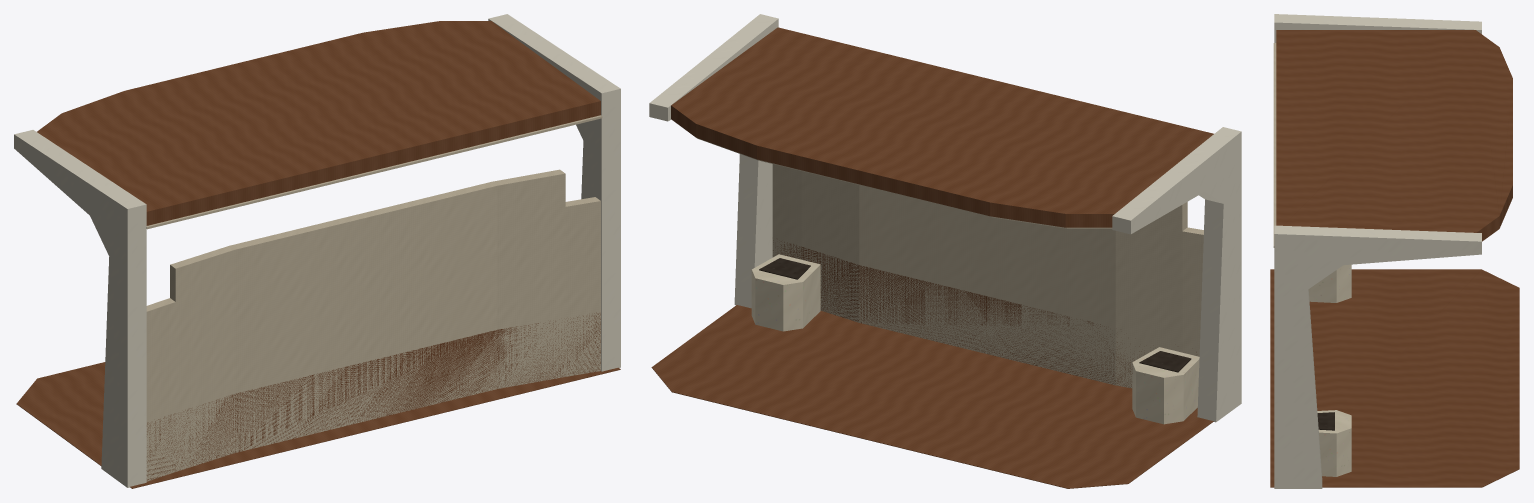
Rendered from AST-RES-003.glb.
3 renders of one model, left to right at view 1: azimuth 30°, elevation 25°; view 2: azimuth 150°, elevation 25°; view 3: azimuth 270°, elevation 25°, orthographic. The views are drawn at different scales.
Visible parts, largest first — view 1: TALK_SweptCanopy, TALK_FacetedBack_2, TALK_EndBearing_0, TALK_FacetedBack_3, TALK_BackDado_2, TALK_FacetedBack_1, TALK_VisualFloor, TALK_EndBearing_1, TALK_FacetedBack_4, TALK_FacetedBack_0, TALK_SoftSoffit, TALK_BackDado_1 (+2 smaller); view 2: TALK_SweptCanopy, TALK_VisualFloor, TALK_FacetedBack_2, TALK_EndBearing_0, TALK_FacetedBack_1, TALK_BackDado_2, TALK_EndBearing_1, TALK_FacetedBack_3, TALK_PlantedEnd_1, TALK_PlantedEnd_0, TALK_FacetedBack_4, TALK_FacetedBack_0 (+3 smaller); view 3: TALK_SweptCanopy, TALK_VisualFloor, TALK_EndBearing_1, TALK_EndBearing_0, TALK_PlantedEnd_1, TALK_PlantedEnd_0, TALK_SoftSoffit, TALK_Soil_1.
Boxes of the visible parts, x1=… form: TALK_SweptCanopy: x1=37, y1=21, x2=600, y2=225; TALK_FacetedBack_2: x1=229, y1=181, x2=497, y2=452; TALK_EndBearing_0: x1=14, y1=130, x2=146, y2=487; TALK_FacetedBack_3: x1=492, y1=169, x2=565, y2=388; TALK_BackDado_2: x1=234, y1=330, x2=497, y2=452; TALK_FacetedBack_1: x1=170, y1=246, x2=234, y2=471; TALK_VisualFloor: x1=16, y1=362, x2=620, y2=488; TALK_EndBearing_1: x1=488, y1=14, x2=620, y2=371; TALK_FacetedBack_4: x1=565, y1=197, x2=600, y2=376; TALK_FacetedBack_0: x1=146, y1=298, x2=175, y2=481; TALK_SoftSoffit: x1=146, y1=115, x2=602, y2=229; TALK_BackDado_1: x1=175, y1=394, x2=234, y2=471; TALK_SweptCanopy: x1=671, y1=27, x2=1213, y2=227; TALK_VisualFloor: x1=651, y1=305, x2=1213, y2=488; TALK_FacetedBack_2: x1=859, y1=185, x2=1115, y2=385; TALK_EndBearing_0: x1=1112, y1=127, x2=1241, y2=422; TALK_FacetedBack_1: x1=1115, y1=202, x2=1187, y2=388; TALK_BackDado_2: x1=859, y1=265, x2=1115, y2=384; TALK_EndBearing_1: x1=649, y1=14, x2=778, y2=308; TALK_FacetedBack_3: x1=801, y1=171, x2=859, y2=322; TALK_PlantedEnd_1: x1=751, y1=254, x2=820, y2=331; TALK_PlantedEnd_0: x1=1132, y1=347, x2=1199, y2=424; TALK_FacetedBack_4: x1=772, y1=164, x2=801, y2=259; TALK_FacetedBack_0: x1=1182, y1=227, x2=1203, y2=356; TALK_SweptCanopy: x1=1276, y1=30, x2=1512, y2=241; TALK_VisualFloor: x1=1270, y1=269, x2=1519, y2=487; TALK_EndBearing_1: x1=1274, y1=225, x2=1481, y2=488; TALK_EndBearing_0: x1=1274, y1=14, x2=1481, y2=42; TALK_PlantedEnd_1: x1=1317, y1=410, x2=1351, y2=476; TALK_PlantedEnd_0: x1=1308, y1=264, x2=1351, y2=302; TALK_SoftSoffit: x1=1273, y1=43, x2=1276, y2=247; TALK_Soil_1: x1=1317, y1=412, x2=1334, y2=430.
Size of the model in its own units: 6.2 by 3.35 by 2.97.
7 materials, 6 textured.
